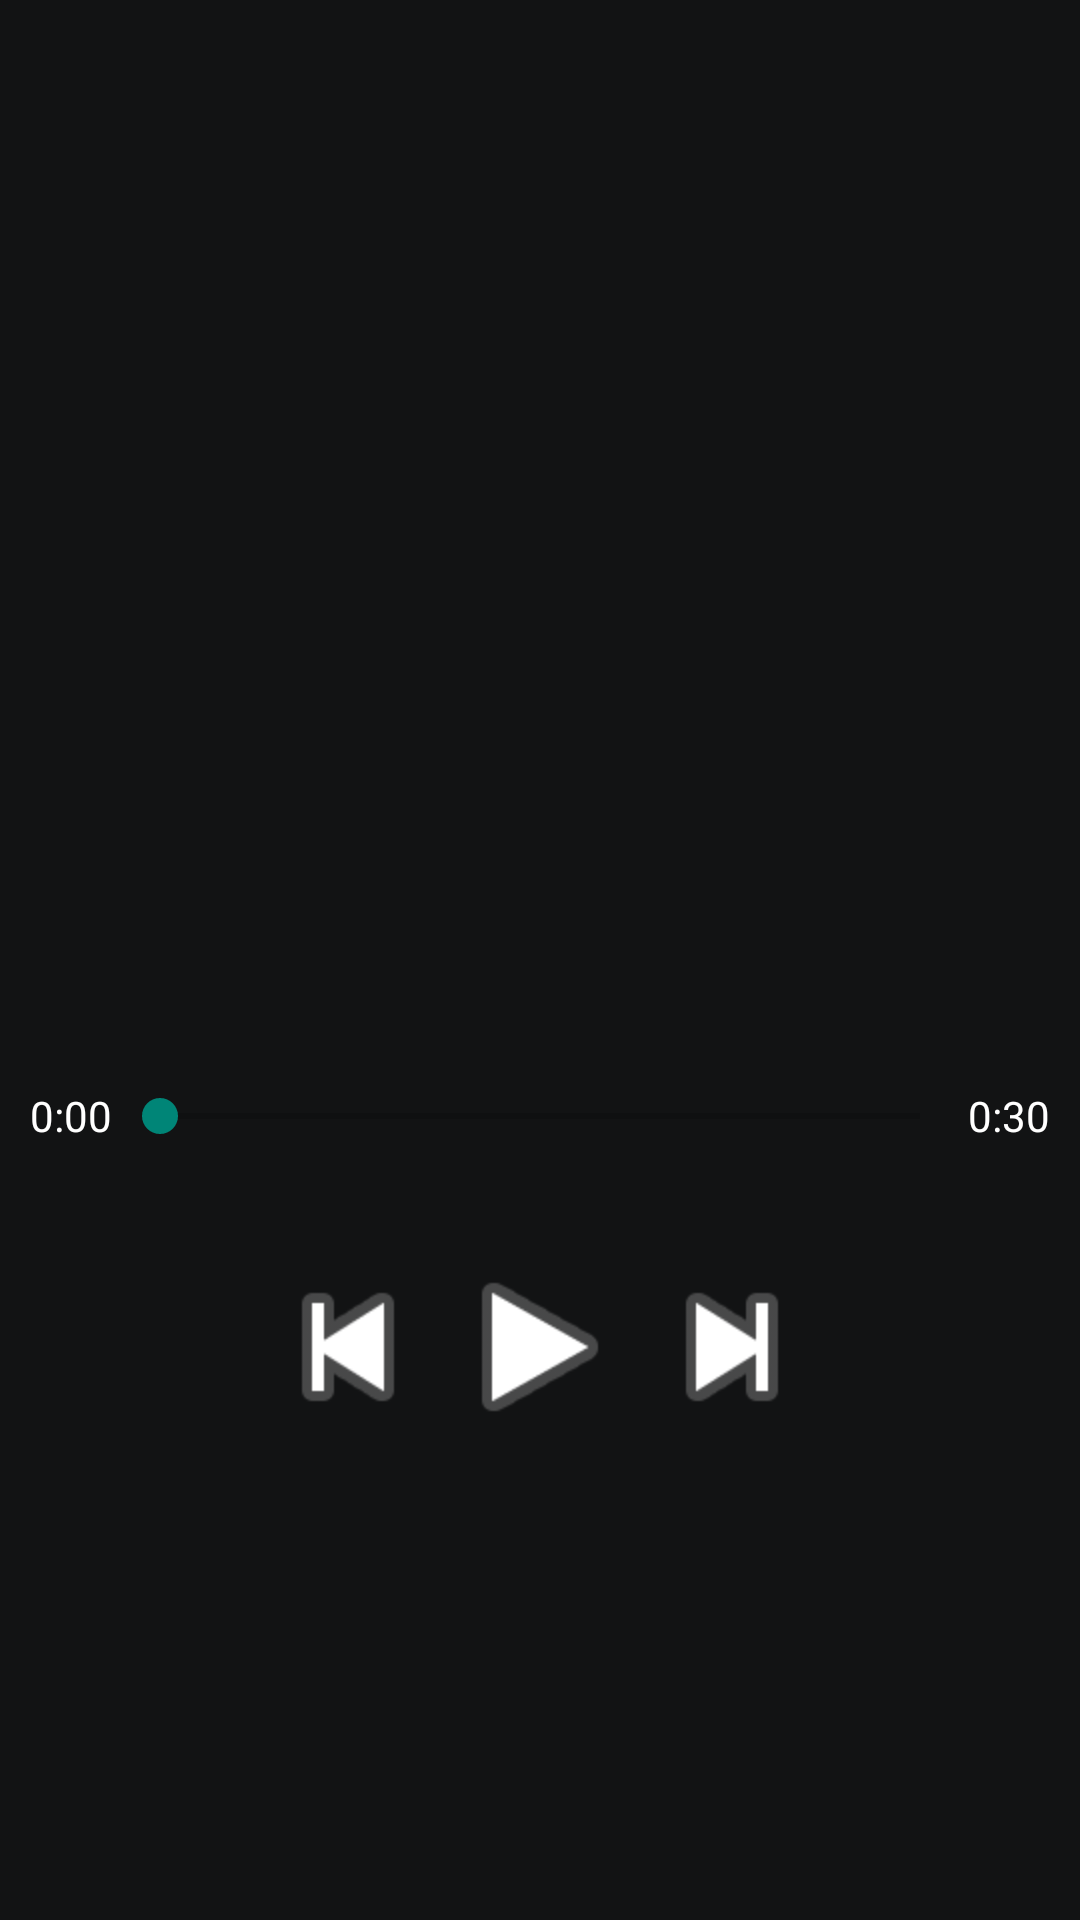

Where to tap for icons on this 1080w x 1920h app screen, as (x,y):
next: (732,1347)
play: (540,1347)
previous: (348,1347)
